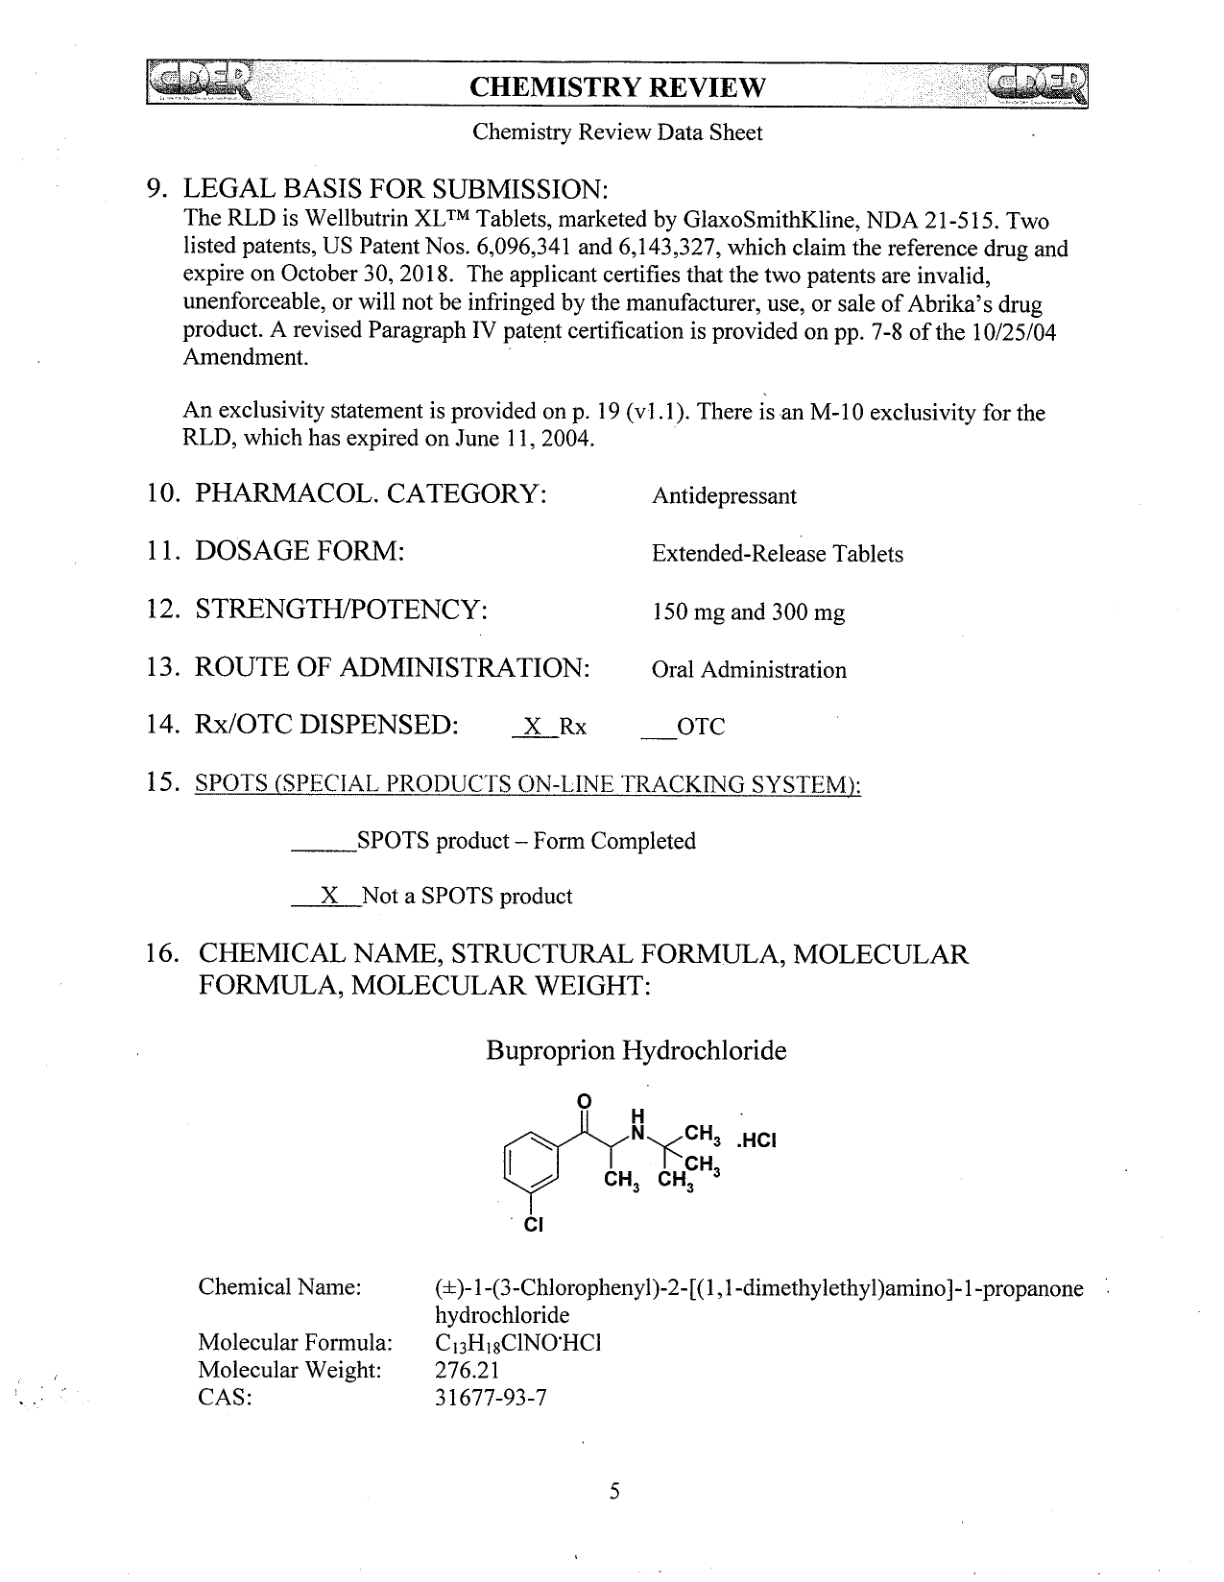nolines: (134, 474, 913, 743), (191, 1266, 1090, 1416)
